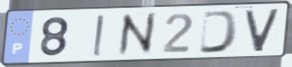2: (161, 12, 195, 54)
8: (39, 16, 71, 58)
D: (197, 9, 240, 55)
I: (91, 13, 106, 58)
N: (117, 11, 157, 59)
V: (243, 7, 282, 54)
